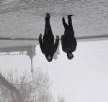person: (36, 11, 60, 63), (60, 12, 79, 61)
